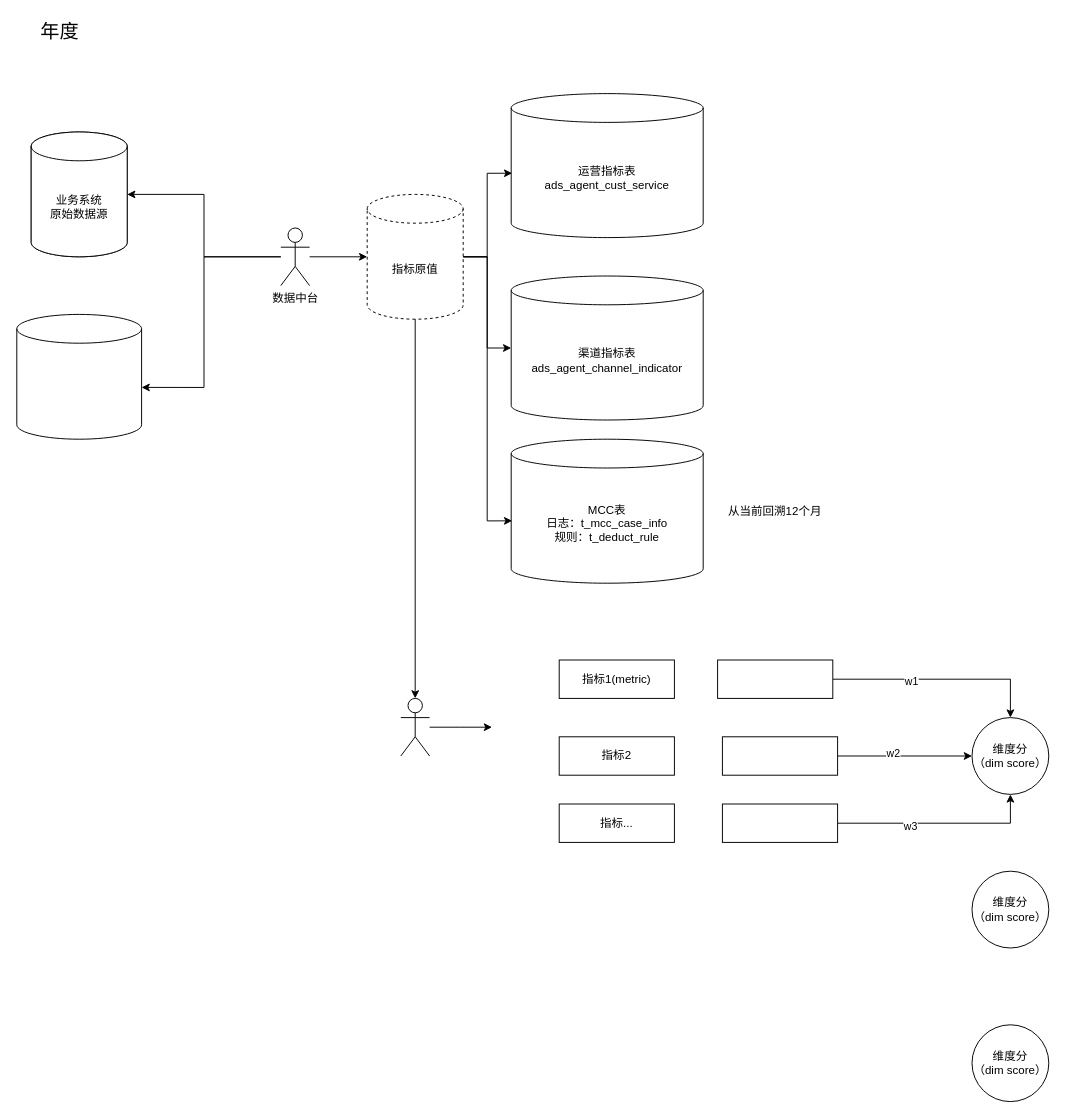
This 1066x1118 diagram has some shape labels left out. The box of each missing label's shape, as (x1, y1, x2, y2) in pixels:
指标评分...: (721, 803, 838, 842)
指标评分1 (metric score): (717, 659, 833, 698)
指标评分2: (721, 736, 838, 775)
指标配置表 （t_metrics_setting）: (16, 313, 142, 439)
算法: (400, 697, 430, 756)
